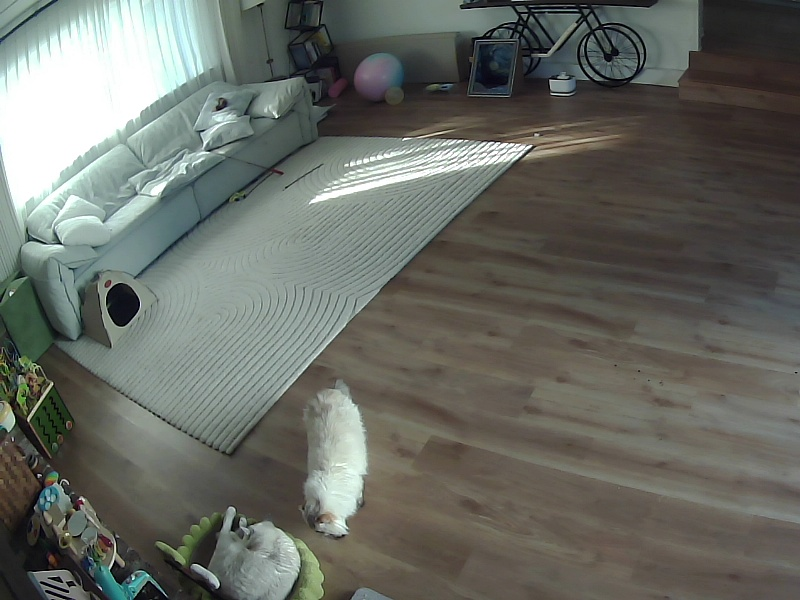Qb-2: (191, 507, 300, 599)
Qbo-2: (301, 380, 367, 537)
